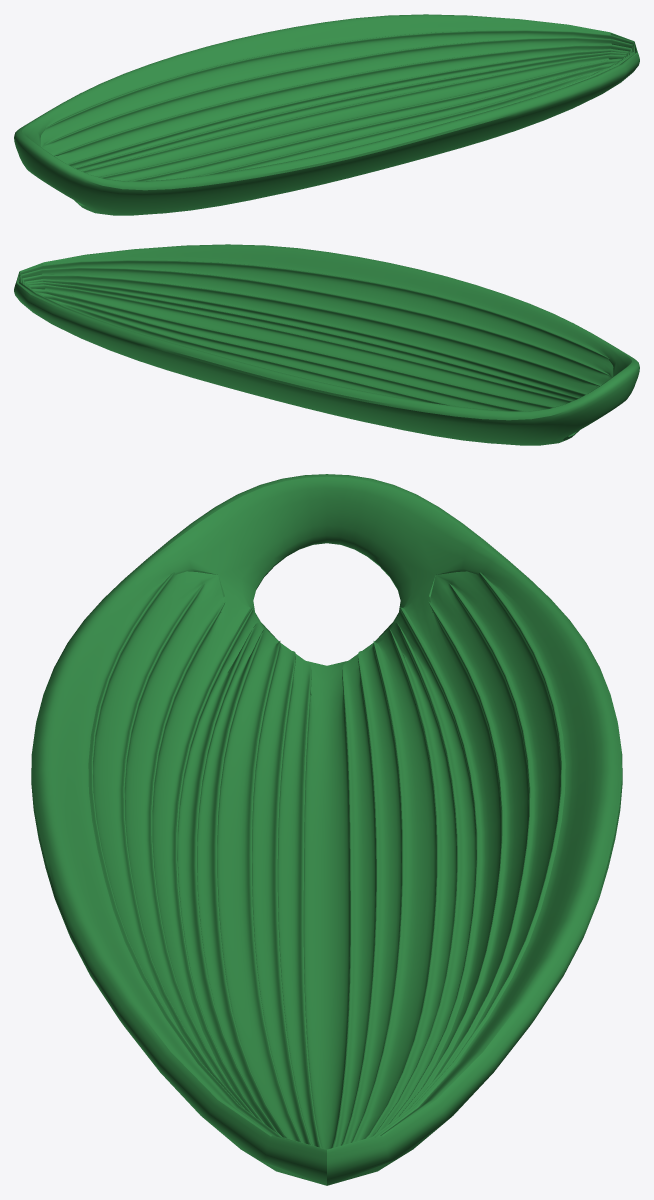
The model's file is eic0121.glb.
The picture shows the model from 3 angles, top to bottom: view 1: azimuth 30°, elevation 25°; view 2: azimuth 150°, elevation 25°; view 3: azimuth 270°, elevation 25°; orthographic projection. The views are drawn at different scales.
Parts seen in each view (by area): view 1: Plane.004; view 2: Plane.004; view 3: Plane.004.
Part boxes in pixels (<box>): Plane.004: <box>14,14,639,215</box>; Plane.004: <box>14,244,639,445</box>; Plane.004: <box>31,474,622,1185</box>.
Bounding box in the file's own units: 1.4 × 0.204 × 0.5887.
